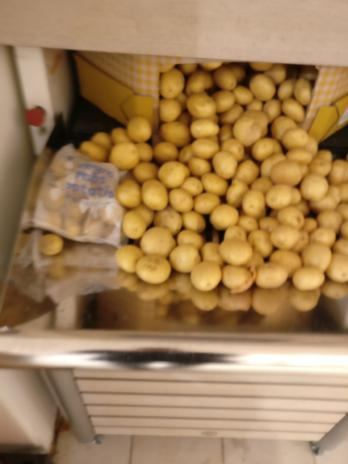Solid potato: (155, 61, 306, 291), (75, 117, 168, 270), (288, 144, 348, 289)
